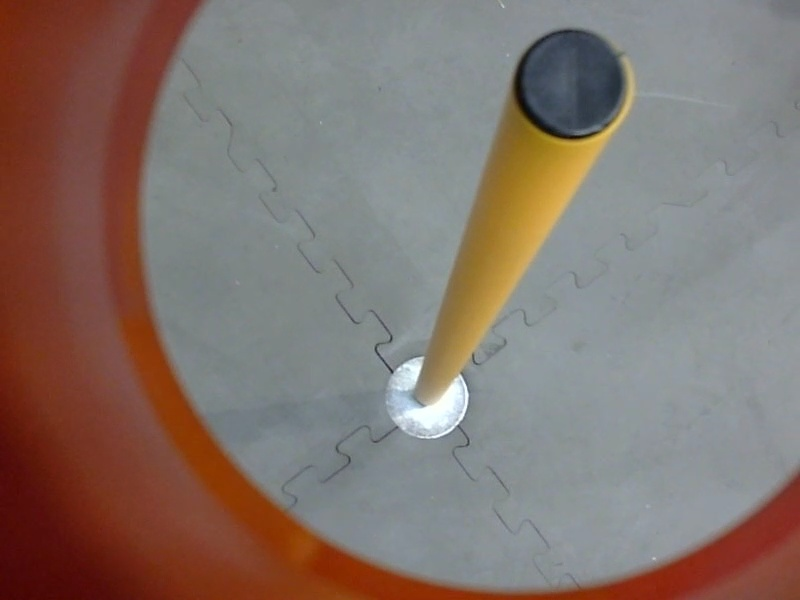tip: (503, 14, 645, 151)
